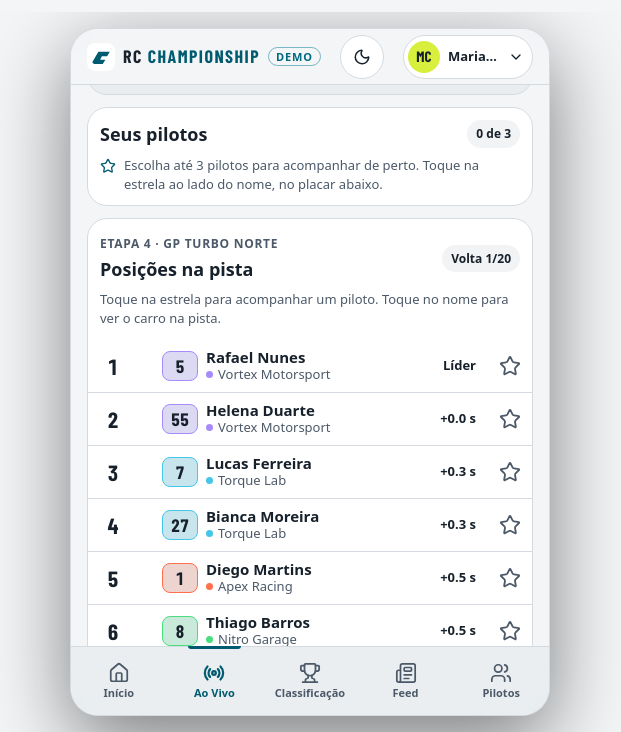
Test: pilotos preferidos no Ao Vivo › escolher um piloto o coloca em "Seus pilotos" e marca a linha como preferido
The image size is (621, 732).
(page scrolled)
Step 1. Click the button named "Acompanhar Rafael Nunes" → (510, 366), box [488,340,532,392]
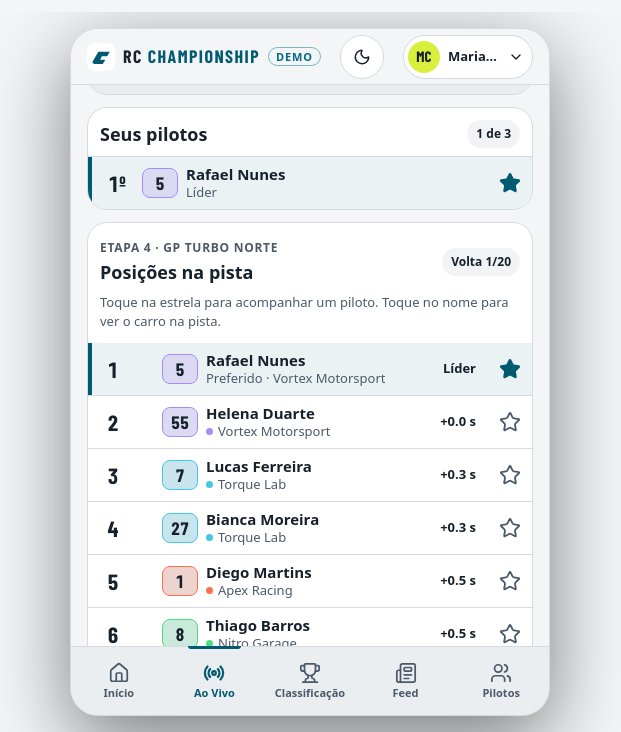
expect the text "1 de 3" is shown: met, box [467,120,520,148]
expect the text "Rafael Nunes" below "Seus pilotos" is shown: met, box [186,164,285,184]
expect the text "Preferido · Vortex Motorsport" is shown: met, box [206,370,386,387]
